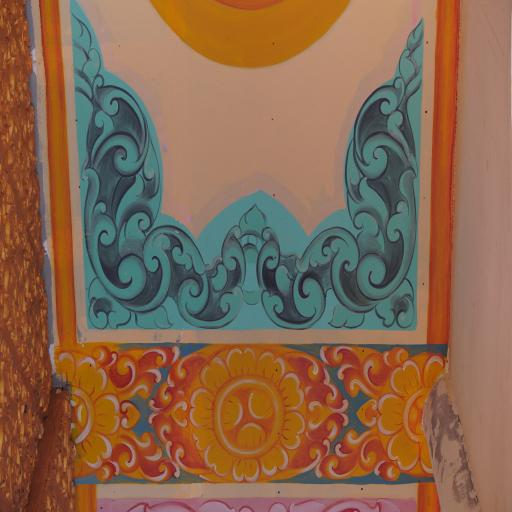hoa: (190, 346, 306, 481), (378, 350, 448, 478), (60, 351, 120, 478)
la: (69, 3, 255, 335), (252, 2, 421, 338), (1, 164, 55, 409), (0, 3, 47, 260), (286, 345, 351, 480), (149, 354, 208, 480), (2, 339, 43, 512), (91, 340, 180, 402), (322, 427, 401, 483), (98, 433, 181, 484), (320, 342, 393, 396)
